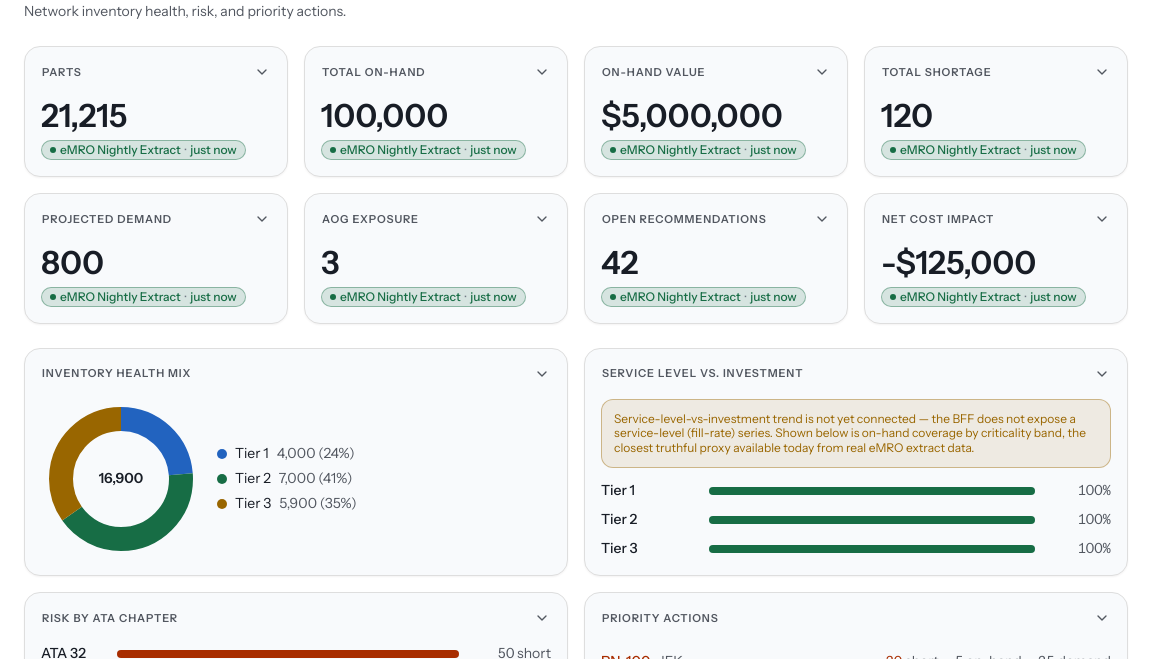
Test case: Overview › drill panels (F3) › enforces a single-open invariant — opening one card's panel closes another
Check: the heading "Parts" is shown, box [42,67,82,78]
Click the button "Risk by ATA chapter" at point(110, 618), box [25,593,567,643]
(page scrolled)
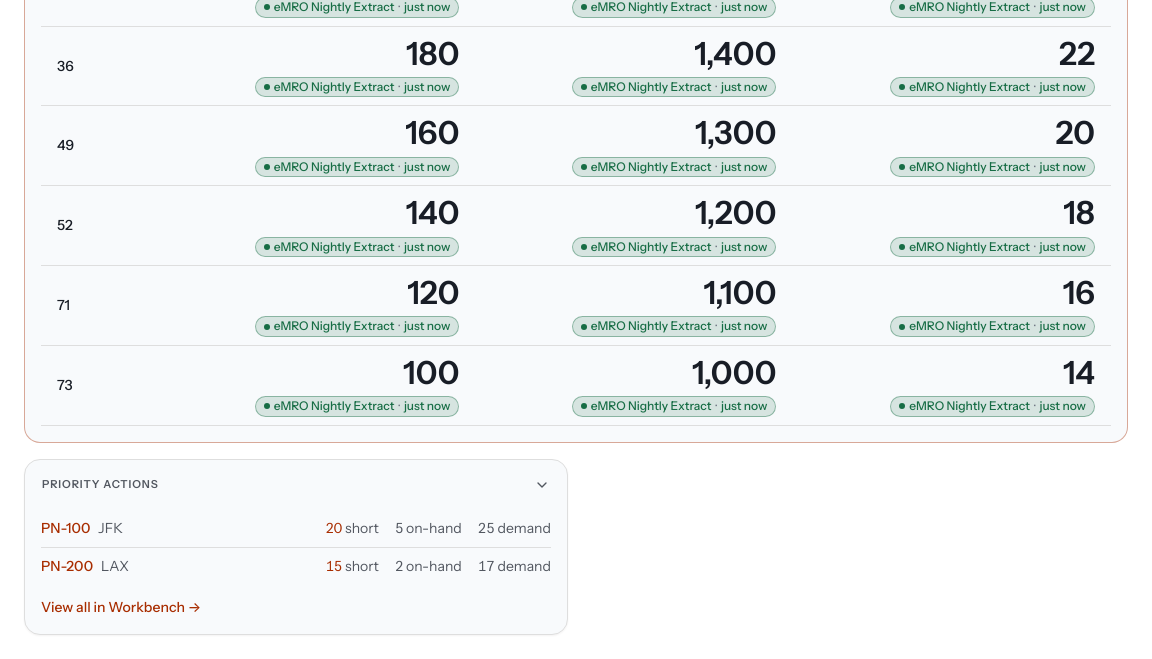
Click the button "Priority actions" at point(100, 484), box [25,460,567,510]
(page scrolled)
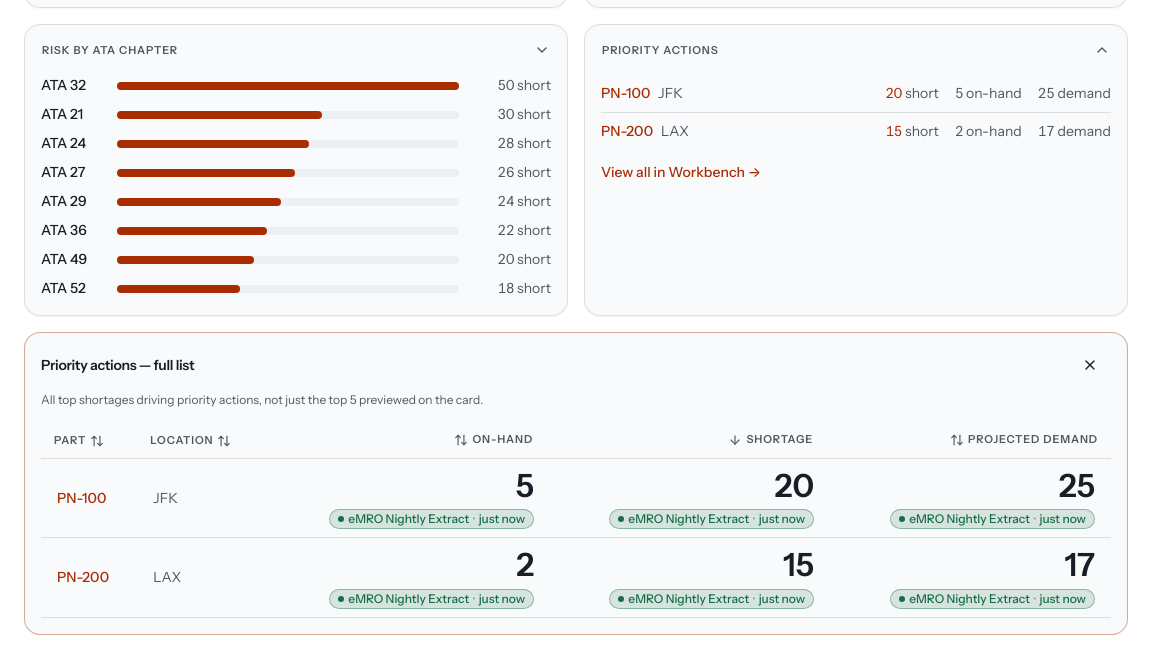
Check: the element "Priority actions — full list" is shown, box [24,332,1128,635]
